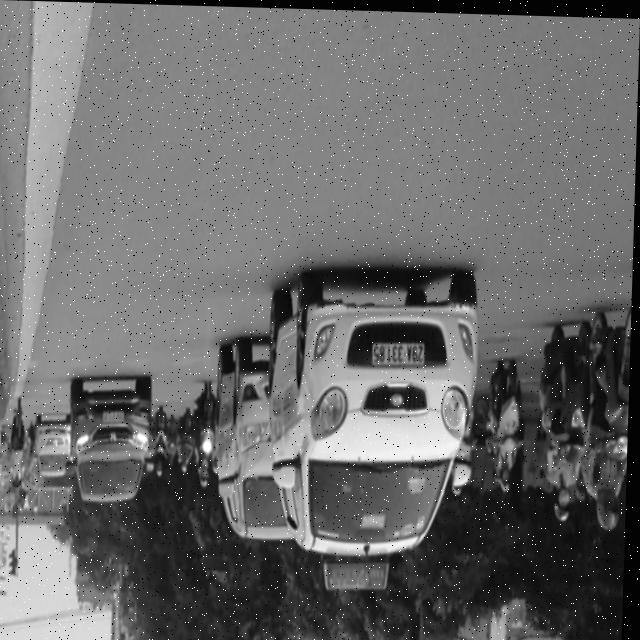plate: (371, 336, 430, 369), (104, 408, 129, 423)
